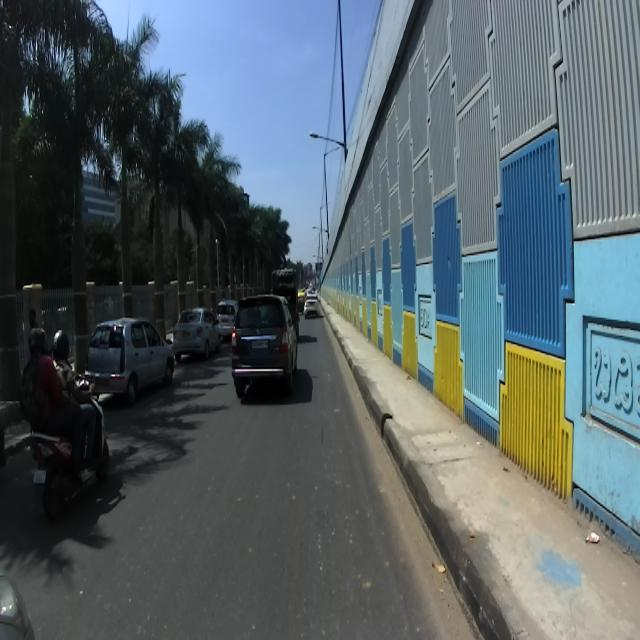car ahead at: (228, 285, 298, 423)
motorcycle ahead at: (18, 375, 116, 513)
